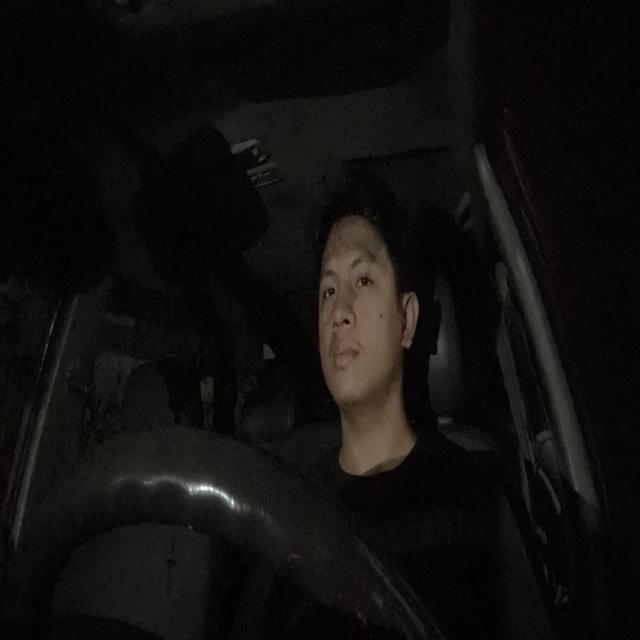open: (350, 250, 382, 304), (320, 264, 339, 310)
